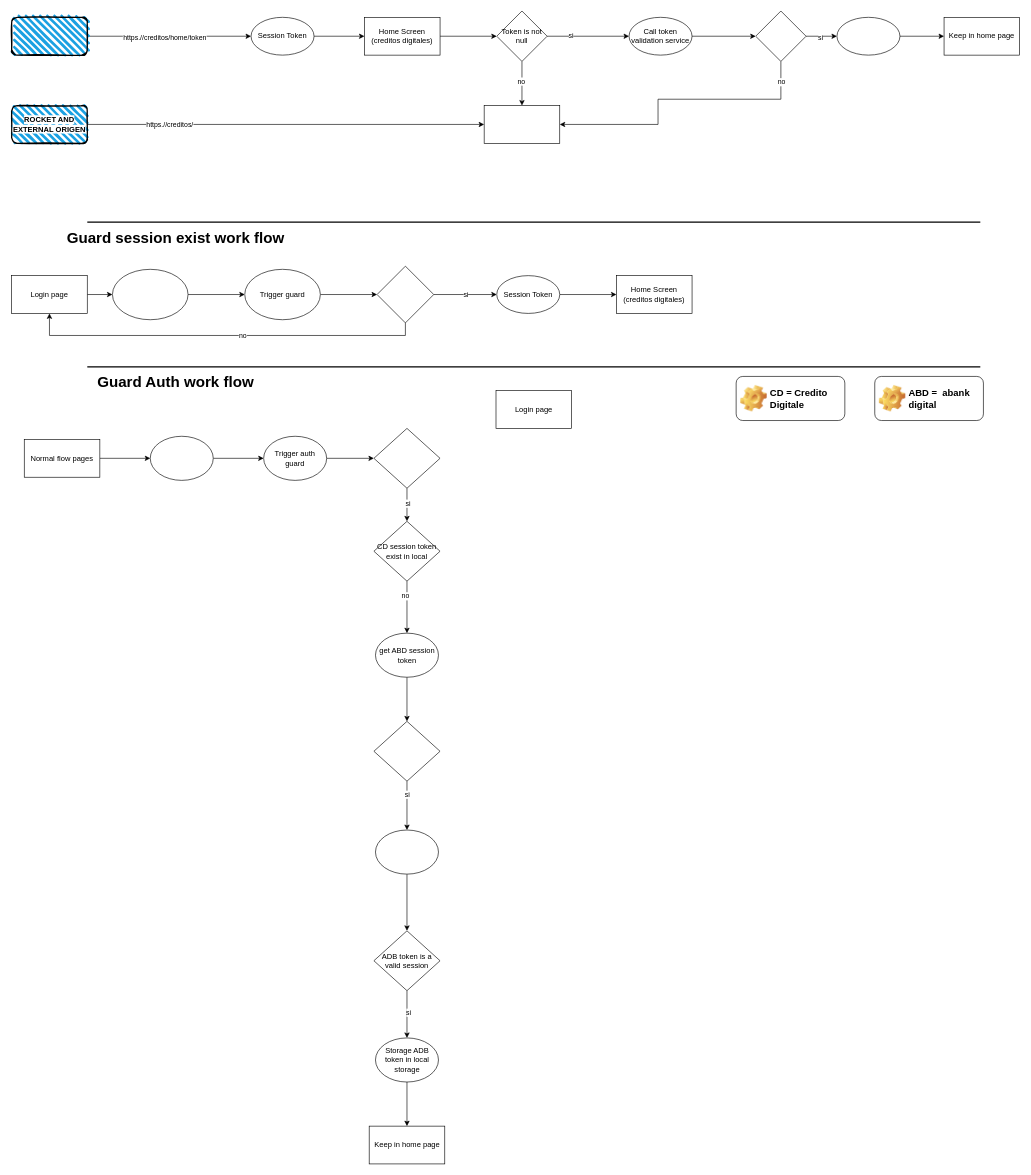
Image size: 1031x1175. Some labels were removed from this diagram. Here are the shapes that lost their labels. From the top down, the centre of each, then its label:
At pixel 49 35: "REACT NATIVE APP".
At pixel 780 35: "Token is valid".
At pixel 868 36: "Stored token in sesion variable".
At pixel 522 124: "Redirect to login".
At pixel 150 294: "Login started".
At pixel 405 294: "token exist in local storage".
At pixel 181 458: "Pages started".
At pixel 406 458: "Current page is Home".
At pixel 406 751: "ABD token is not null".
At pixel 406 851: "call ADB validation token service".
